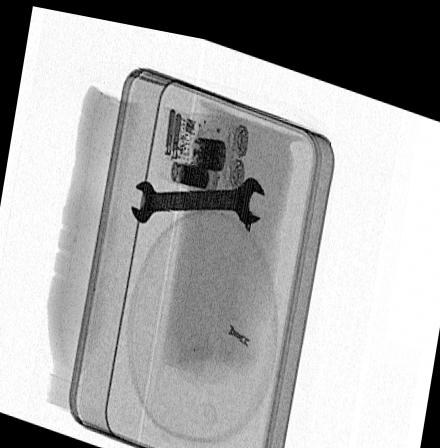Wrench: (129, 166, 270, 219)
